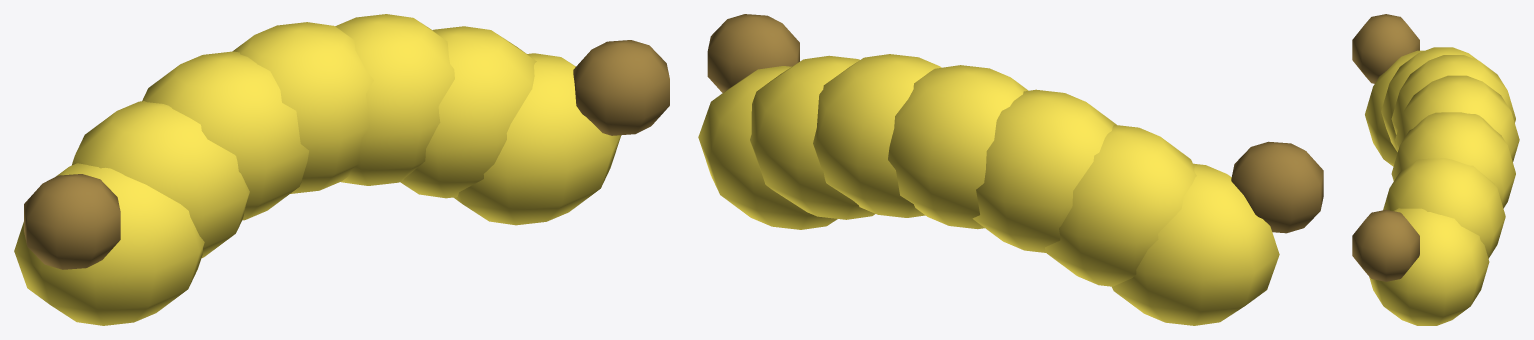
The model's file is Banana.fbx.
3 renders of one model, left to right at view 1: azimuth 30°, elevation 25°; view 2: azimuth 150°, elevation 25°; view 3: azimuth 270°, elevation 25°, orthographic. The views are drawn at different scales.
Parts seen in each view (by area): view 1: Banana; view 2: Banana; view 3: Banana.
Part boxes in pixels (x1,y1,x2,y2): Banana: (14,14,669,325); Banana: (698,14,1323,325); Banana: (1352,14,1519,325).
Size of the model in its own units: 0.6056 by 0.2 by 0.188.
